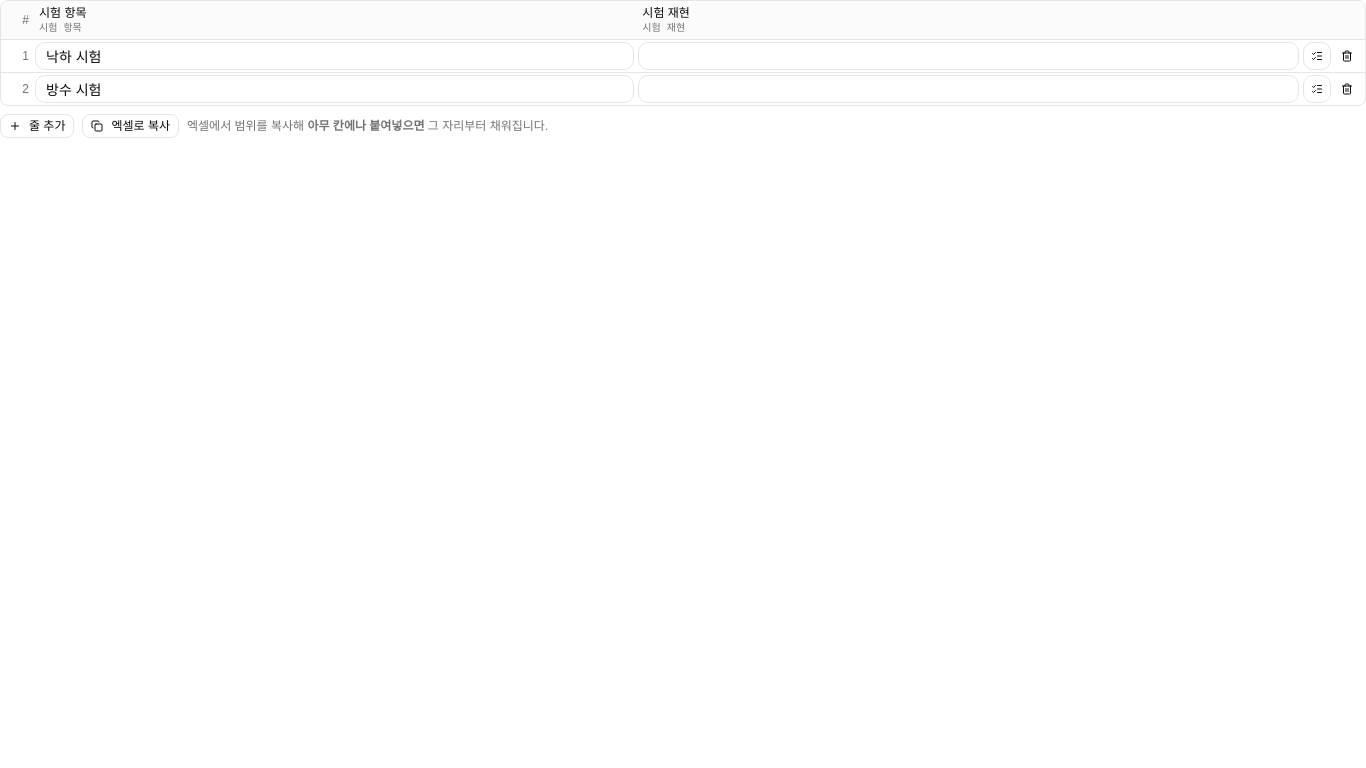
Scenario: PasteGrid — 줄마다 다른 목록 › 그 줄의 목록만 뜬다
The width and height of the screenshot is (1366, 768).
Click the button named "1번 줄 시험 재현 고르기": point(1317, 56) [1303,42,1331,70]
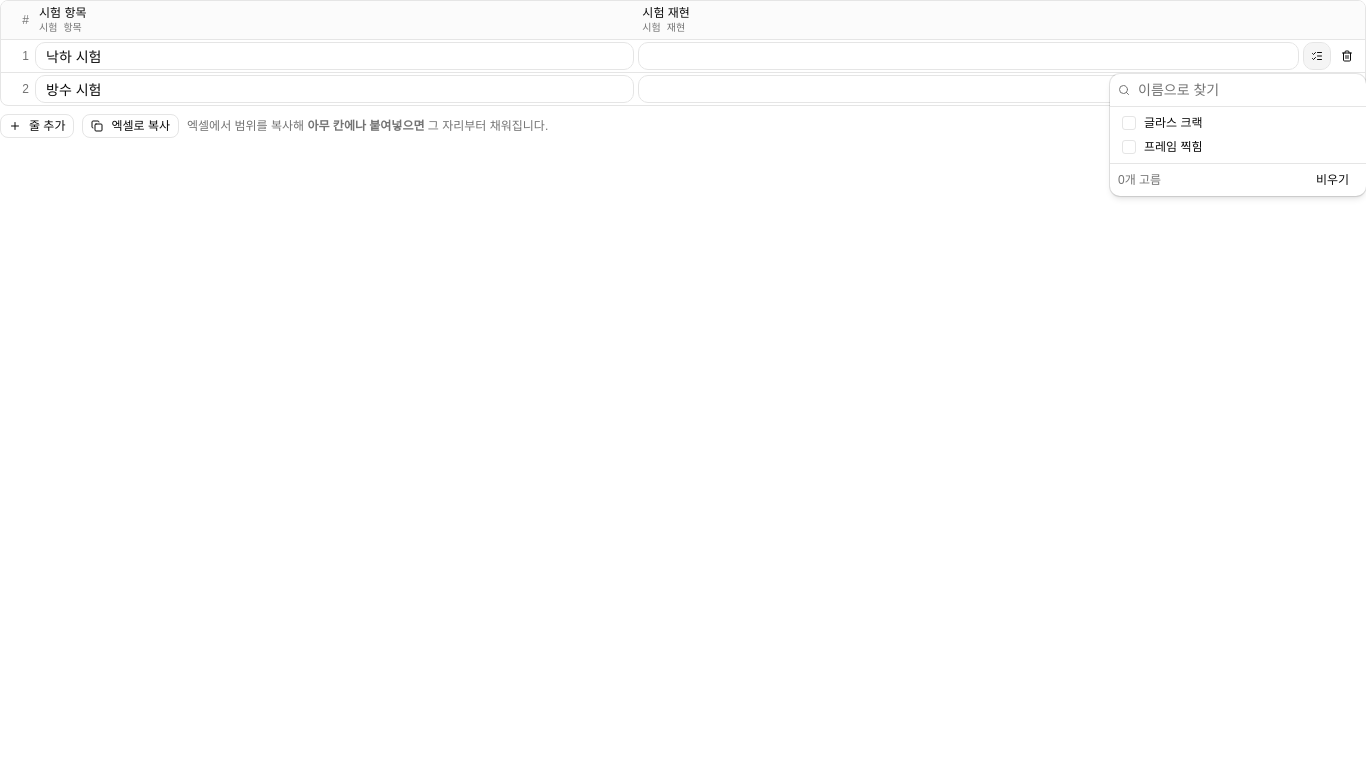
expect the button "실링 누수" is not shown: met
expect the button "글라스 크랙" is shown: met, box [1114,111,1362,135]
Press Escape
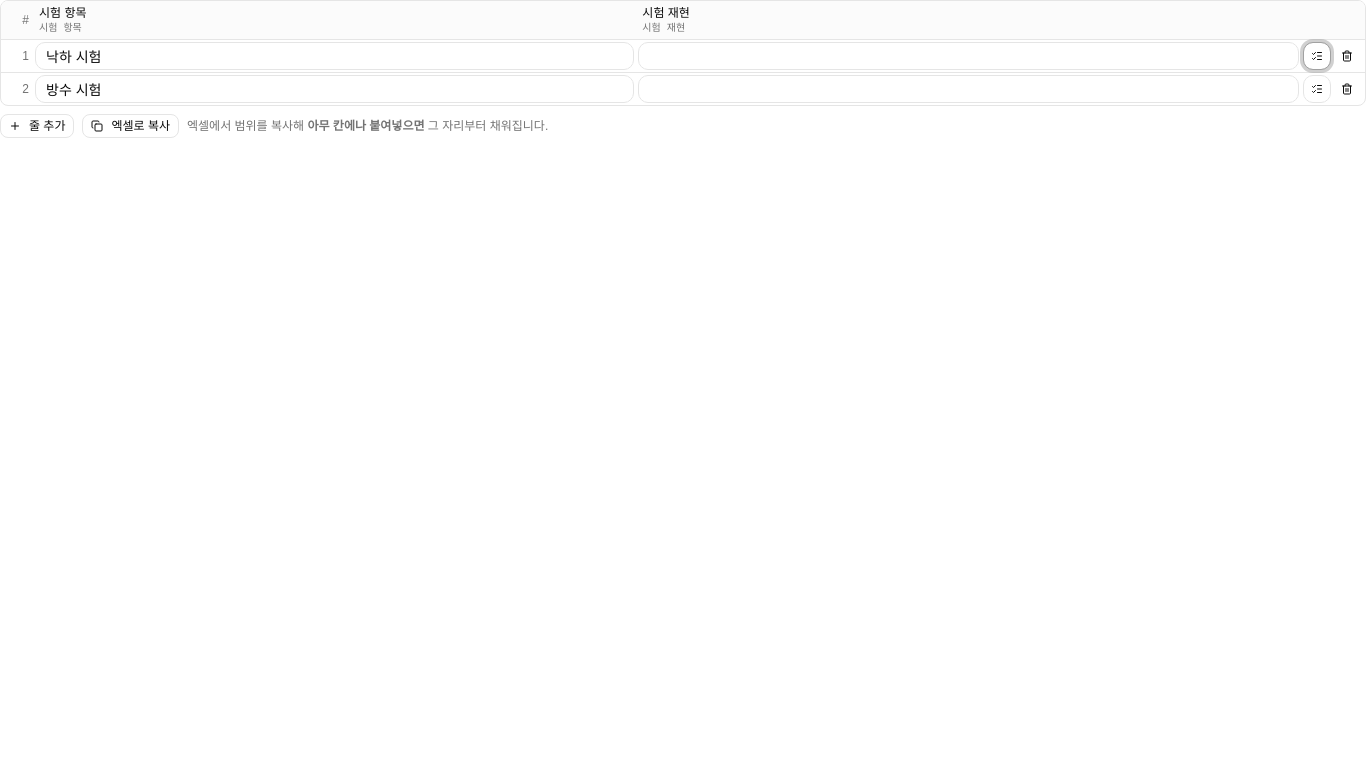
Click the button named "2번 줄 시험 재현 고르기": point(1317, 89) [1303,75,1331,103]
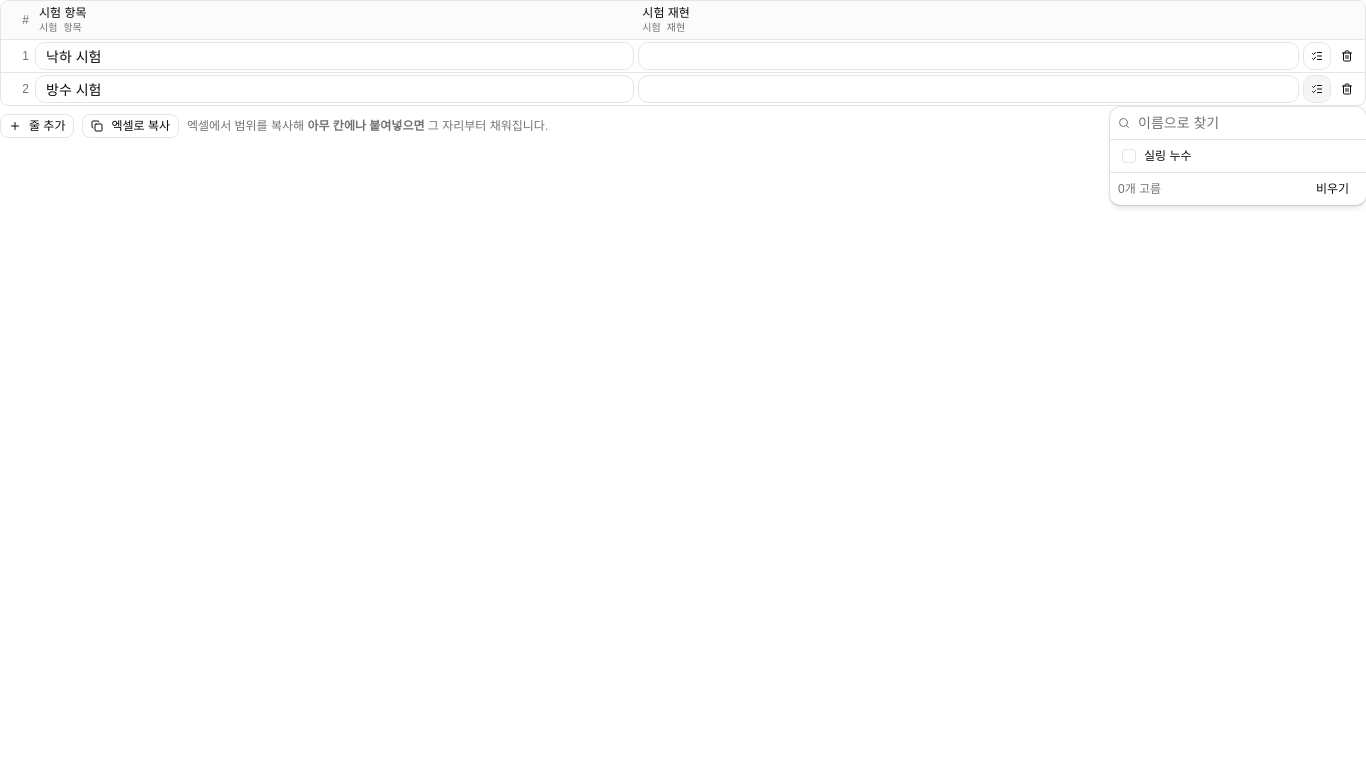
expect the button "글라스 크랙" is not shown: met
expect the button "실링 누수" is shown: met, box [1114,144,1362,168]
